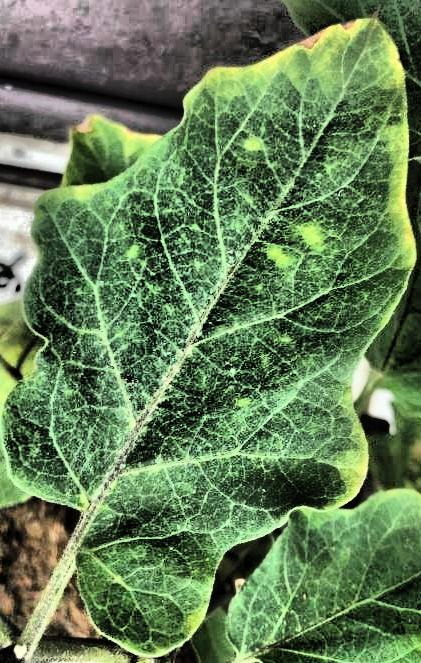Non-critical Stress: (1, 0, 421, 663)
